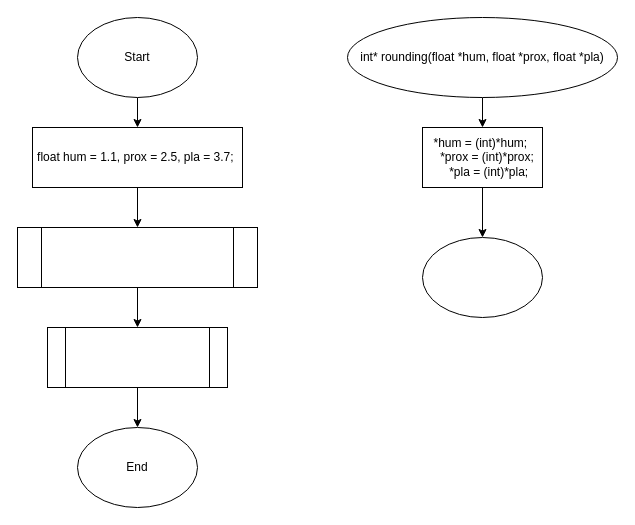
This 635x525 diagram has some shape labels left out. Here are the shapes that lost their labels. From the top down, the box of each, then its label:
(16, 226, 258, 288): rounding(&hum, &prox, &pla);
(422, 236, 542, 318): return
(46, 326, 228, 388): other(hum, prox, pla);
